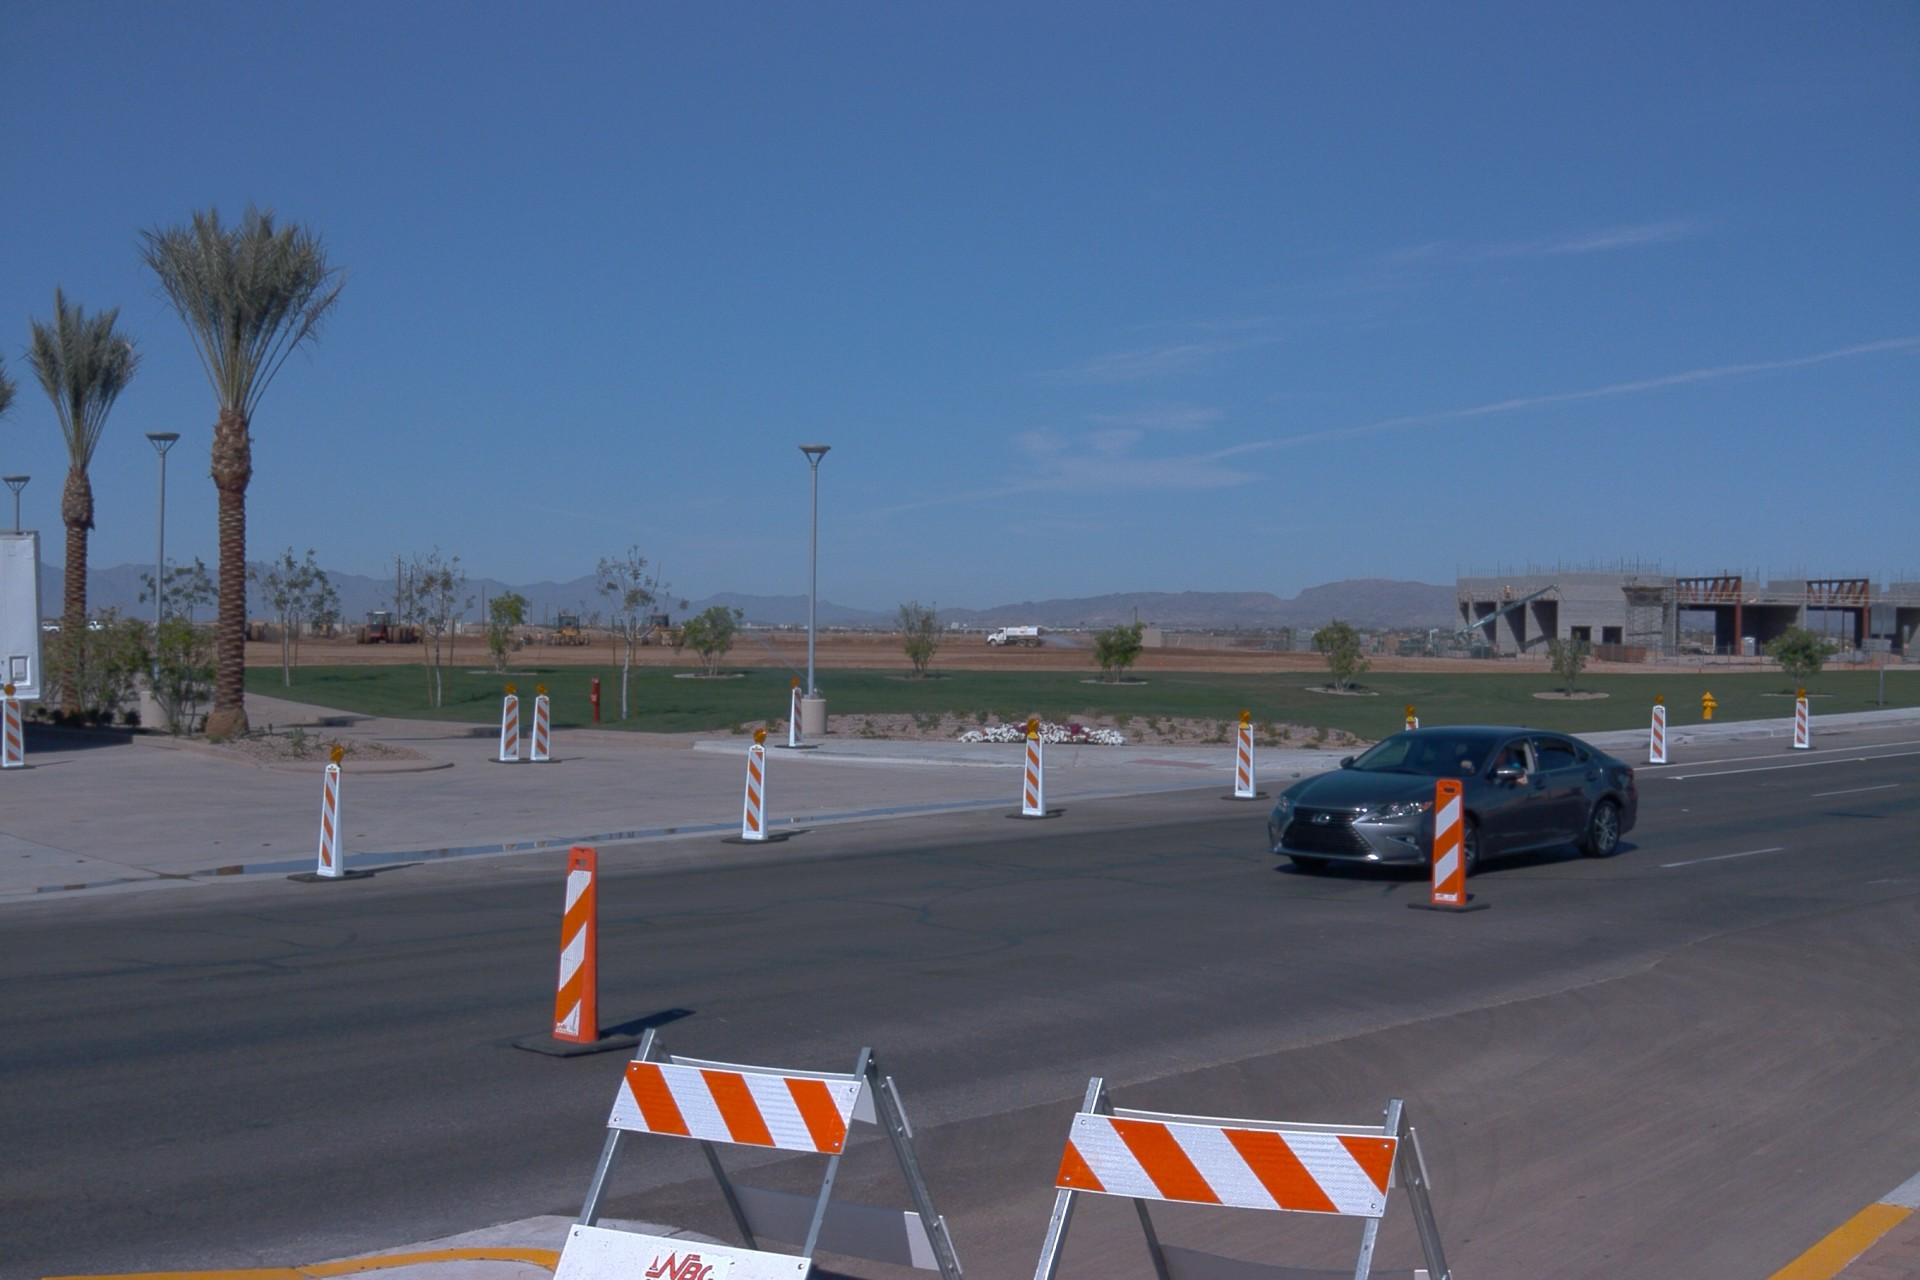TYPE_PEDESTRIAN: (537, 631, 547, 647), (499, 631, 505, 645)
TYPE_VEHICLE: (1265, 723, 1640, 881), (0, 530, 52, 712), (1448, 585, 1560, 651), (355, 611, 427, 648), (986, 625, 1048, 647), (246, 611, 266, 643), (313, 616, 337, 639), (86, 621, 119, 633), (39, 623, 63, 636)
